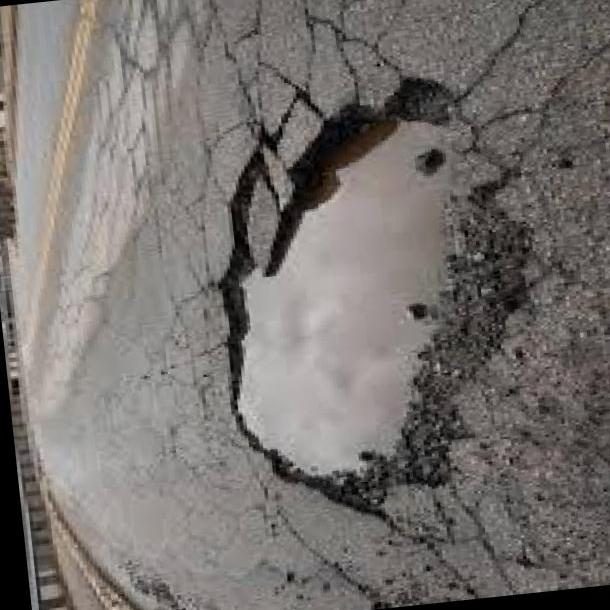pothole: (190, 62, 532, 532)
